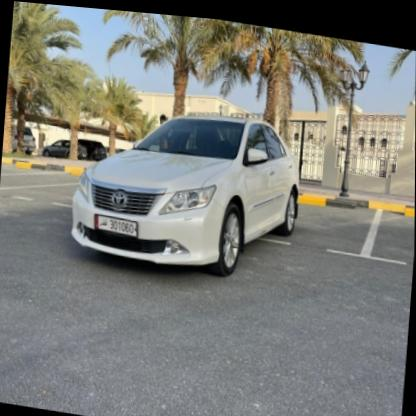np: (93, 211, 139, 235)
